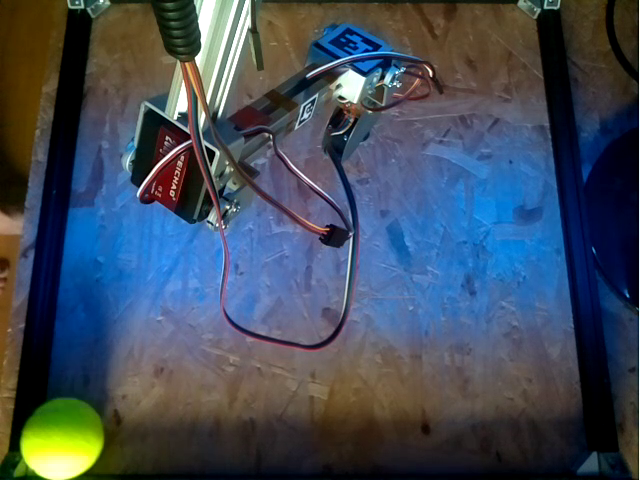tennis_ball: (21, 396, 104, 479)
